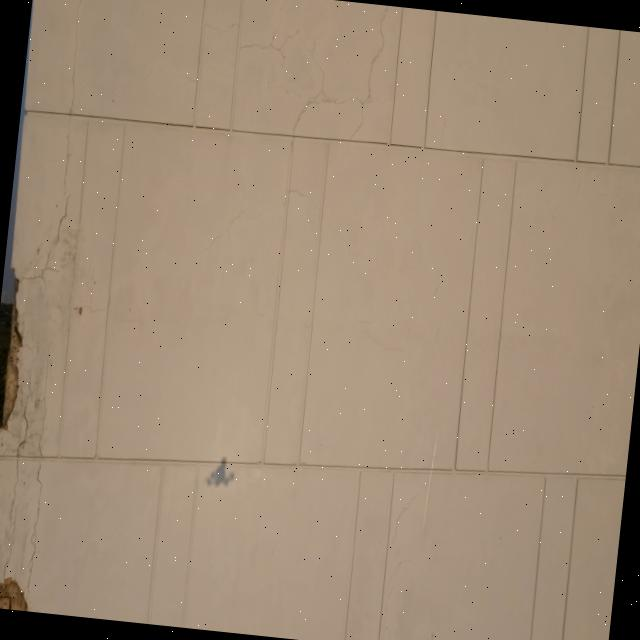Crack: (0, 276, 50, 587), (285, 0, 351, 132), (362, 5, 397, 118), (42, 200, 67, 276), (236, 43, 285, 64)
Spalling: (0, 279, 21, 427), (59, 0, 81, 115), (52, 118, 69, 192), (0, 577, 26, 610)
